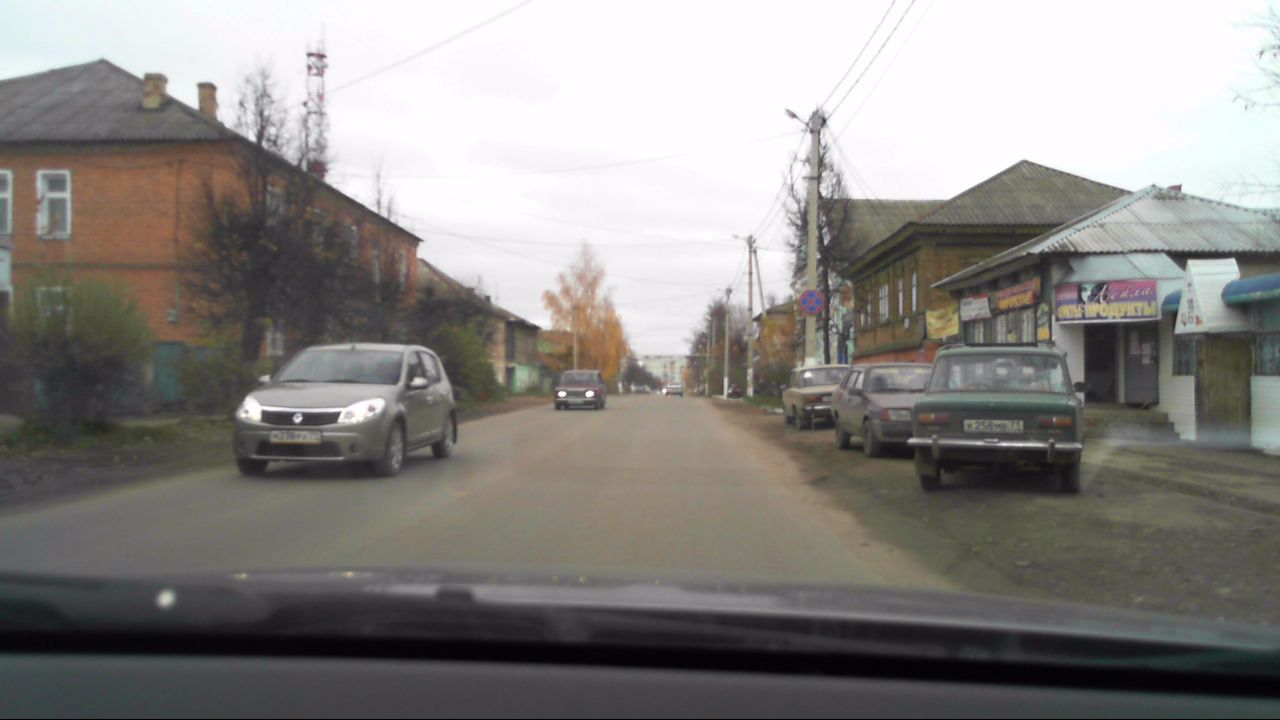No Parking: (796, 288, 827, 319)
